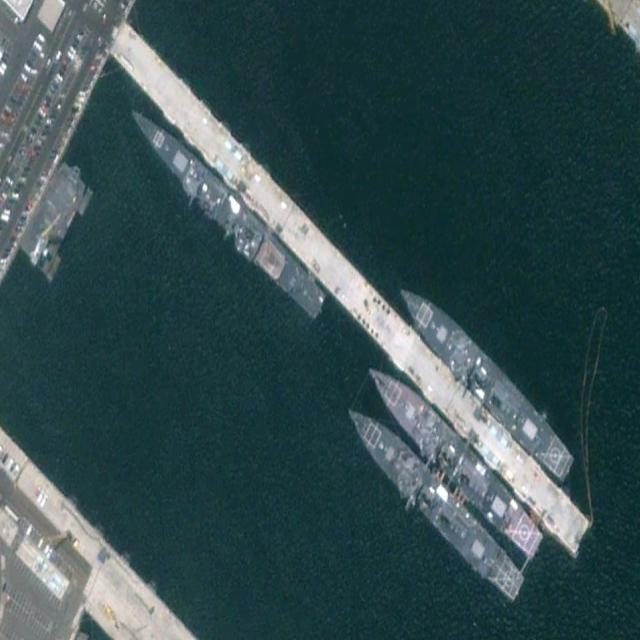Cruiser: (122, 98, 329, 327)
Destroyer: (392, 269, 579, 490), (357, 351, 547, 565), (338, 394, 528, 608)
